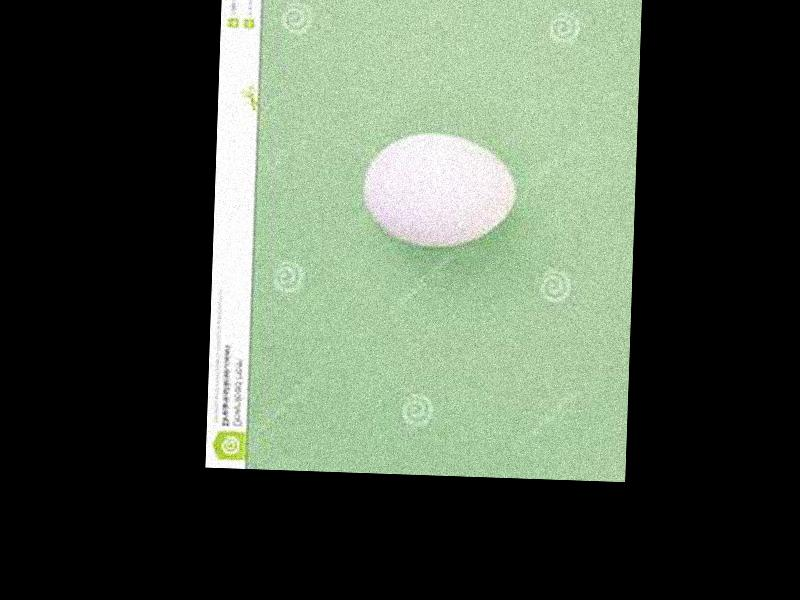Eggs: (362, 133, 515, 250)
